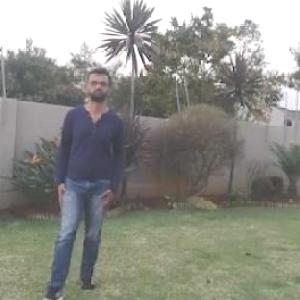follow: (43, 41, 132, 299)
